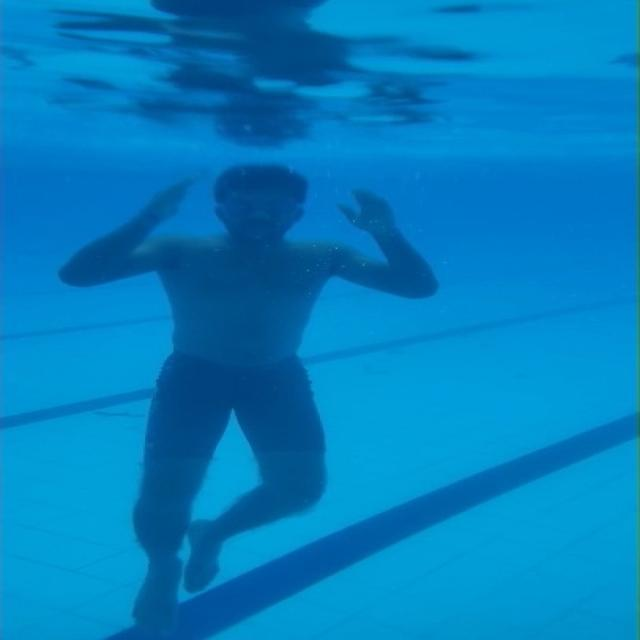Drowning: (60, 159, 444, 636)
